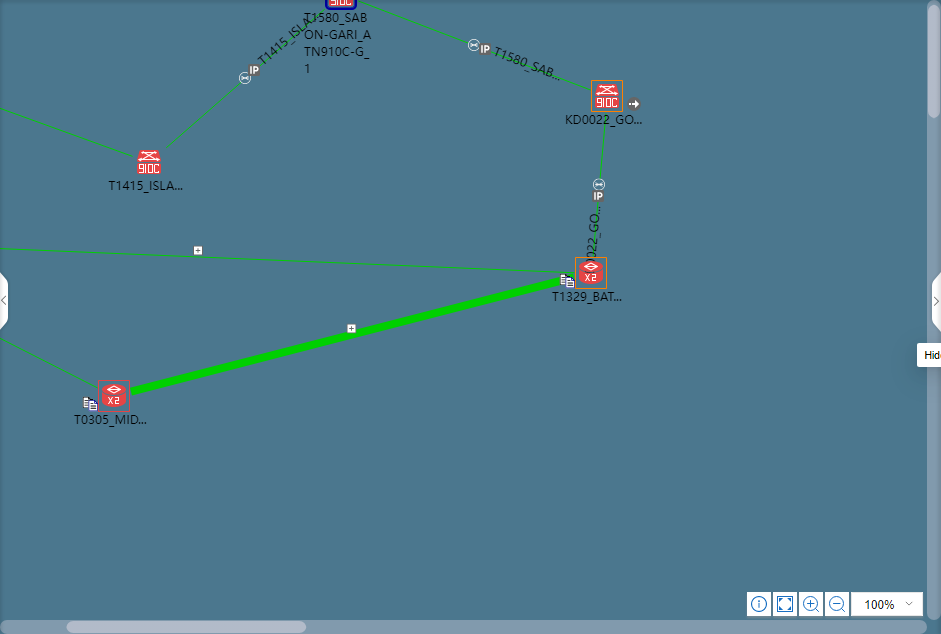ATN_Red: (591, 82, 621, 110), (137, 151, 160, 174)
Link_Green: (129, 272, 575, 400), (164, 6, 326, 153), (358, 0, 590, 93), (1, 106, 136, 160), (0, 336, 97, 390), (591, 114, 608, 255)
Router_Red: (575, 258, 606, 288), (100, 381, 128, 411)
